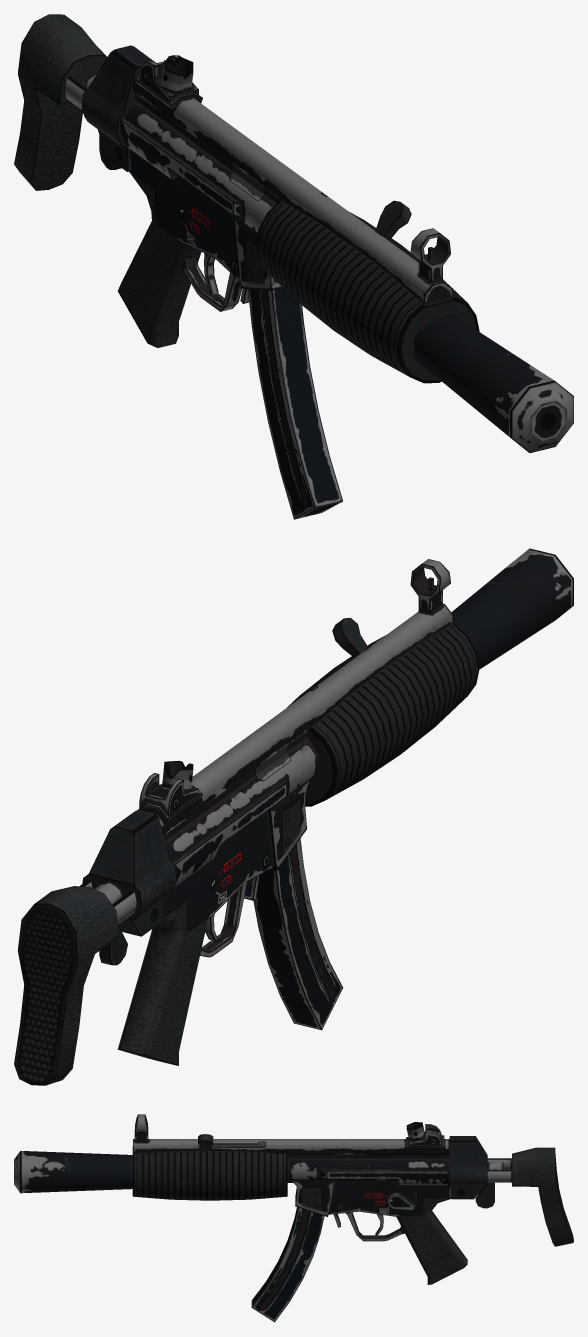
The picture shows the model from 3 angles, top to bottom: view 1: azimuth 30°, elevation 25°; view 2: azimuth 150°, elevation 25°; view 3: azimuth 270°, elevation 25°; orthographic projection. The views are drawn at different scales.
Visible parts, largest first — view 1: MP5-SD; view 2: MP5-SD; view 3: MP5-SD.
Part boxes in pixels (x1,y1,x2,y2): MP5-SD: (14, 14, 573, 519); MP5-SD: (14, 548, 573, 1085); MP5-SD: (14, 1114, 573, 1322).
Bounding box in the file's own units: 71.34 × 271 × 679.
